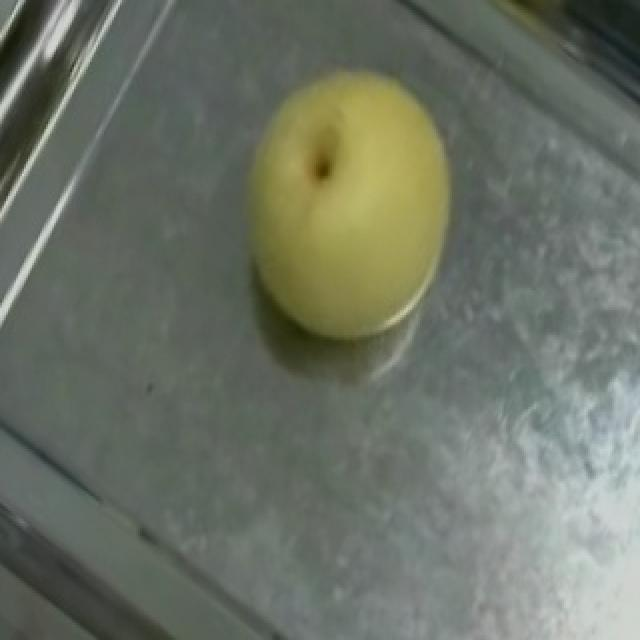Fruit: (188, 25, 506, 379)
